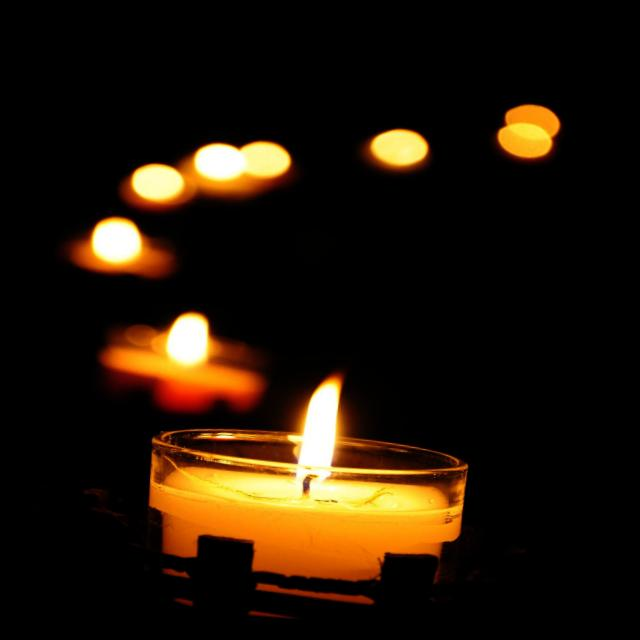Fire_Save: (137, 353, 476, 612), (92, 302, 274, 421), (63, 210, 180, 282), (492, 100, 563, 162), (363, 124, 432, 172)
